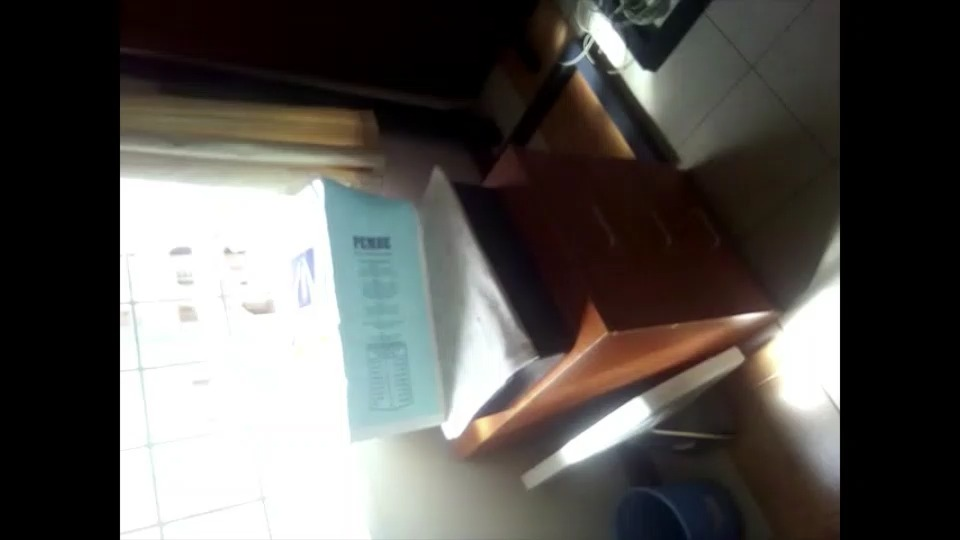wheat_flour_blue_label: (285, 171, 444, 440)
